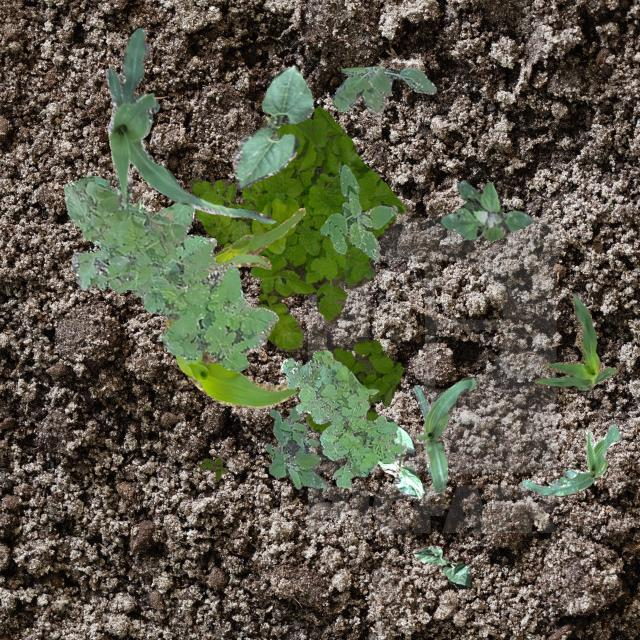crop: (103, 26, 274, 222), (163, 206, 304, 406), (232, 64, 314, 188), (532, 291, 616, 388), (412, 376, 474, 492), (520, 424, 620, 494), (376, 416, 424, 498), (410, 544, 470, 586), (126, 200, 144, 213)
weed: (188, 106, 404, 350), (62, 174, 278, 370), (280, 348, 406, 488), (294, 338, 402, 432), (320, 163, 396, 260), (439, 178, 534, 240), (264, 406, 328, 488), (332, 64, 436, 114), (198, 456, 226, 478)
